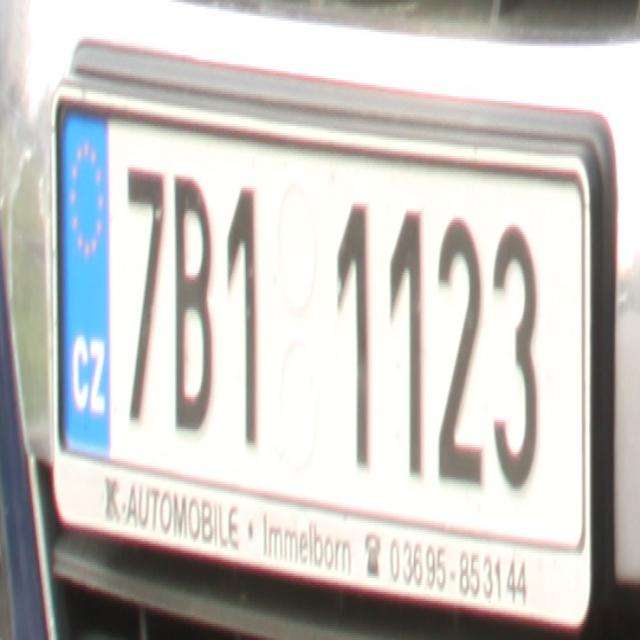1: (335, 199, 378, 475), (387, 209, 428, 486), (227, 181, 264, 450)
2: (438, 211, 488, 489)
3: (492, 218, 539, 495)
7: (122, 161, 165, 422)
B: (173, 170, 216, 433)
